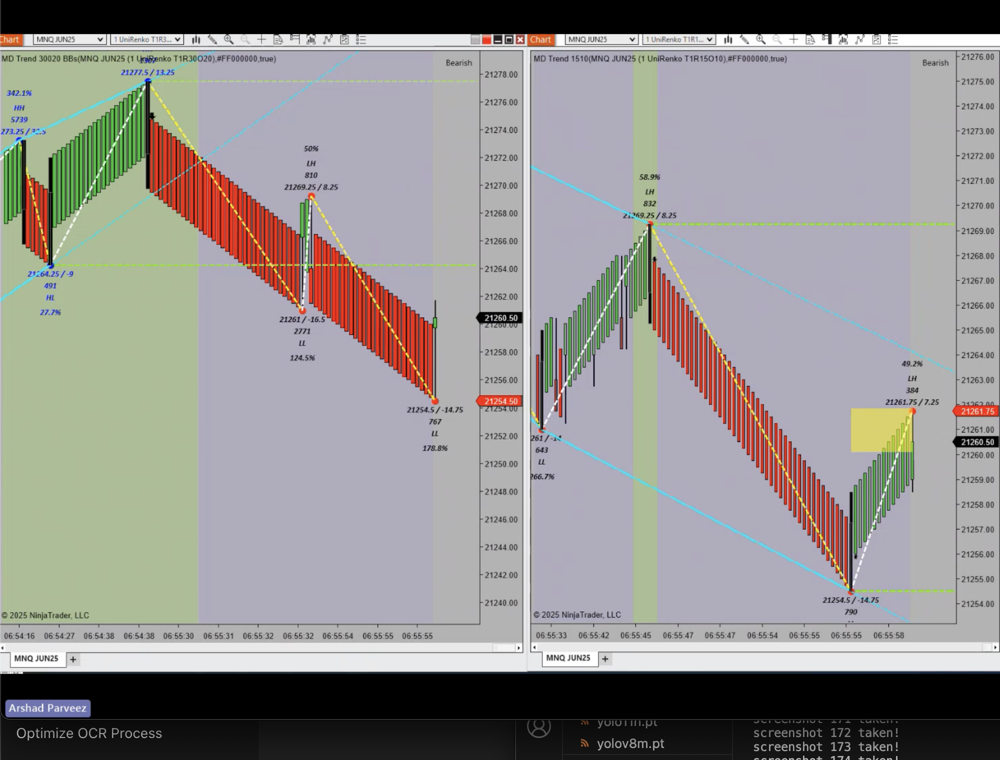HH: (9, 103, 33, 116)
HL: (40, 287, 62, 309)
LH: (637, 183, 666, 205), (301, 153, 326, 175), (903, 371, 924, 390)
LL: (531, 452, 559, 475), (291, 333, 317, 356), (422, 425, 447, 443)
